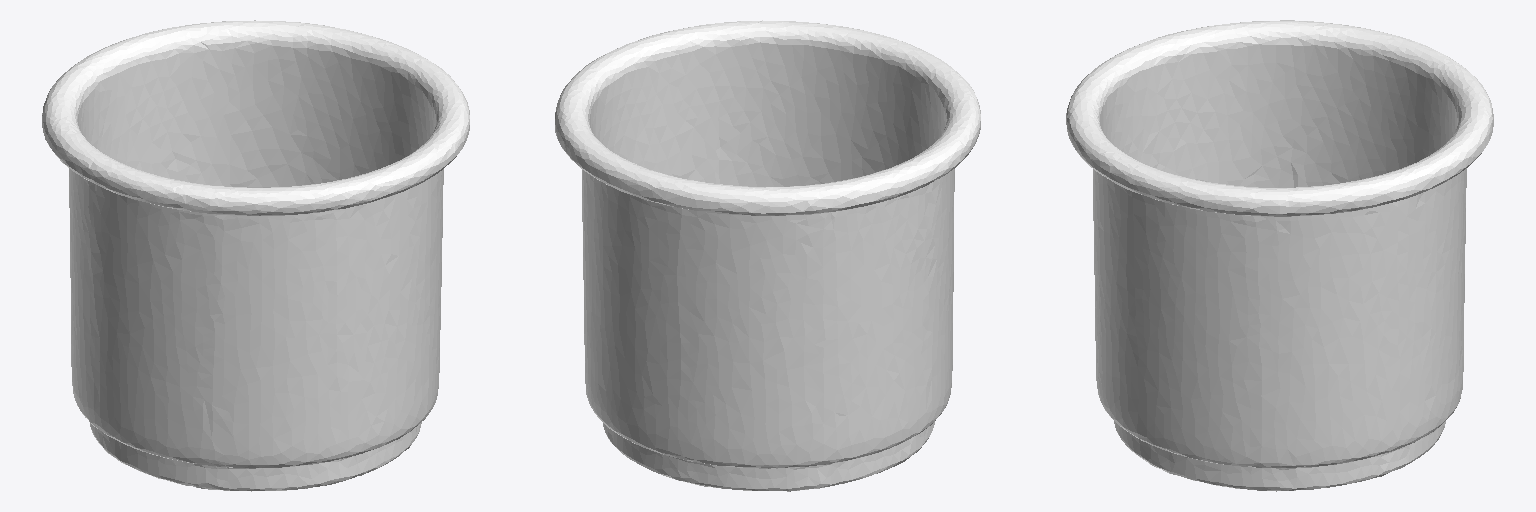
robot.urdf — 059_chain:
<robot name="059_chain">
	<link name="_name">
		<visual>
			<origin xyz="0.34274940120650693 -0.18175325943306264 -0.09010247611937368" rpy="0 0 0" />
			<geometry>
				<mesh filename="059_chain/google_16k/textured.obj" scale="10 10 10" />
			</geometry>
			<material name="texture">
				<color rgba="1.0 1.0 1.0 1.0" />
			</material>
		</visual>
		<collision>
			<geometry>
				<mesh filename="059_chain/google_16k/textured_vhacd.obj" scale="10 10 10" />
			</geometry>
		<origin xyz="0.34274940120650693 -0.18175325943306264 -0.09010247611937368" rpy="0 0 0" /></collision>
		<inertial>
			<mass value="1.0" />
			<inertia ixx="1.0" ixy="0.0" ixz="0.0" iyy="1.0" iyz="0.0" izz="1.0" />
		</inertial>
	</link>
</robot>

--- Facts derived from the render (not from the file) ---
Views: 3 orthographic renders of the robot side by side, from view 1: azimuth 30°, elevation 25°; view 2: azimuth 150°, elevation 25°; view 3: azimuth 270°, elevation 25°.
Robot: 059_chain — 1 links, 0 joints (none); root link _name; default pose: all joints at 0.
Links seen in each view (by area): view 1: _name; view 2: _name; view 3: _name.
Link boxes in pixels (box(x1,y1,x2,y2)): _name: box(42, 20, 469, 491); _name: box(555, 20, 980, 491); _name: box(1066, 20, 1493, 491).
Bounding box of the posed robot: 0.915 × 0.9162 × 0.7506 m (x, y, z).
1 mesh visuals loaded from 1 distinct referenced files (1 OBJ).